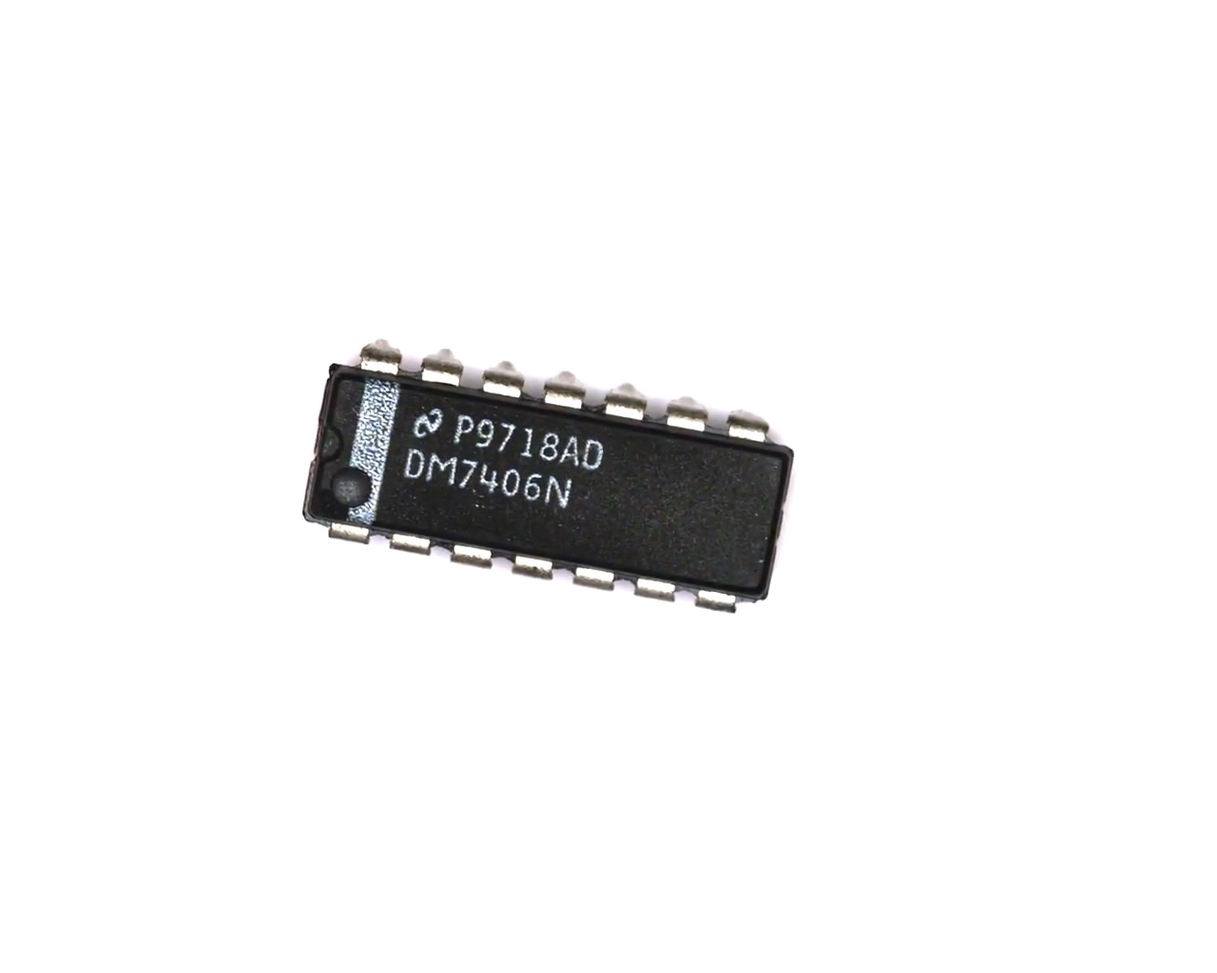IC: (295, 327, 807, 628)
notch: (310, 417, 349, 466)
